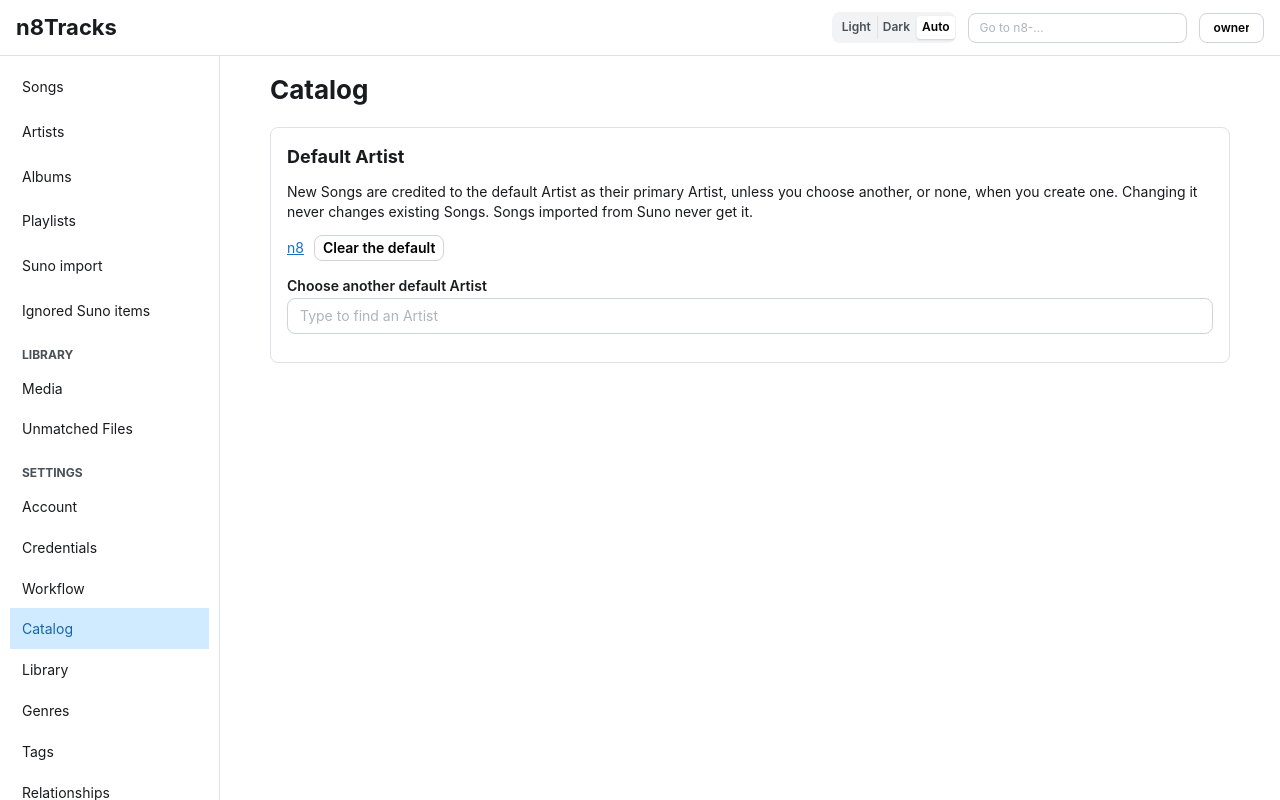
it: Settings → Catalog › clears the default Artist
Check: the heading "Catalog" is shown, box [270,74,368,105]
Click the button "Clear the default": (379, 248) [314,235,444,261]
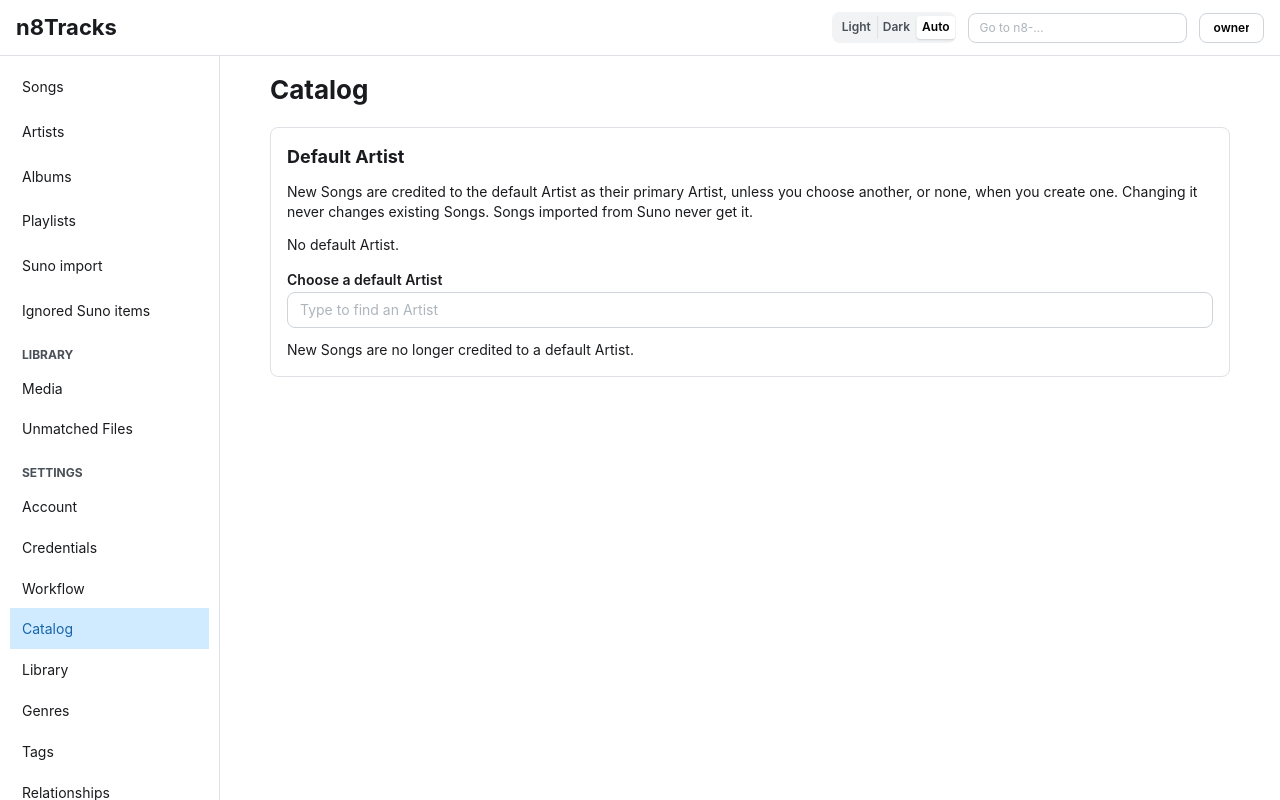
Check: the element with test id "default-artist" reads "No default Artist.", box [287,236,399,253]
Check: the text "New Songs are no longer credited to a default Artist." is shown, box [287,341,634,358]
